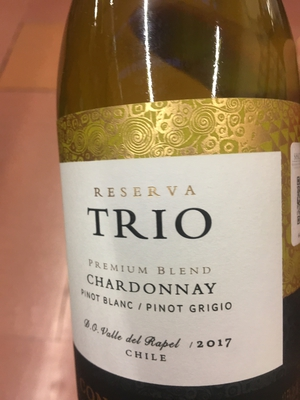trio chardonnay: (51, 6, 300, 399)
